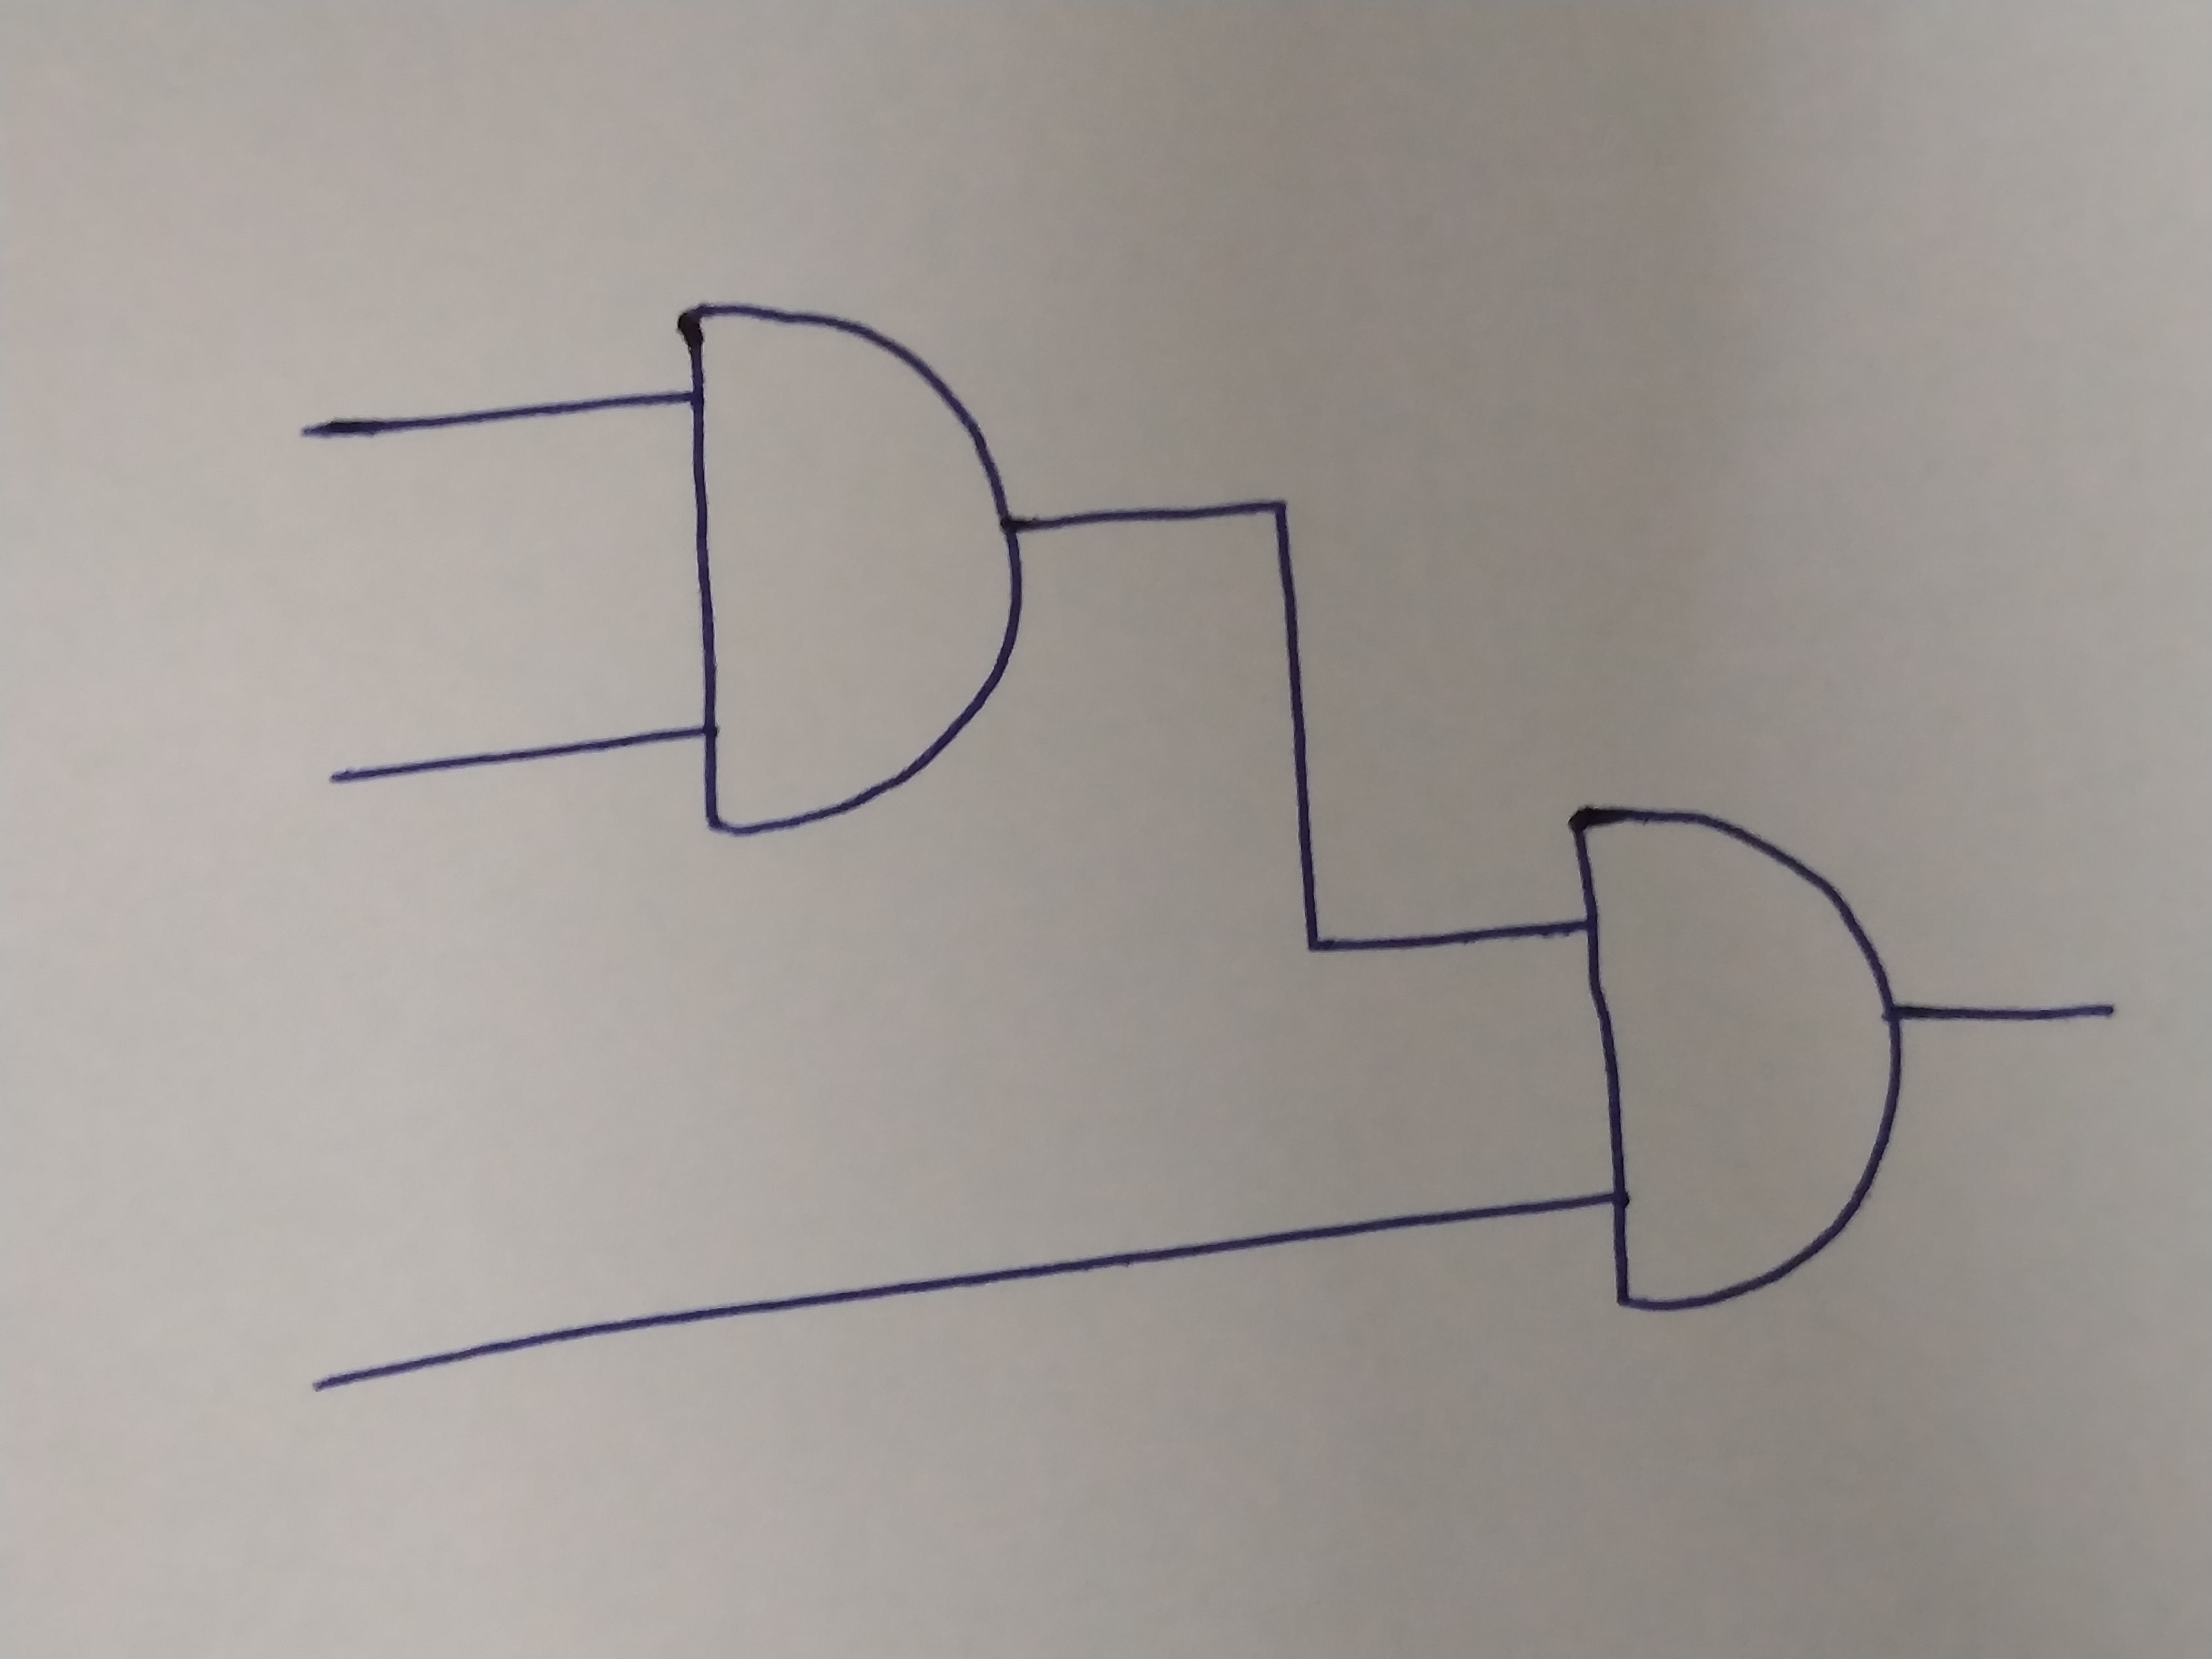and: (679, 300, 1015, 836), (1569, 805, 1898, 1317)
